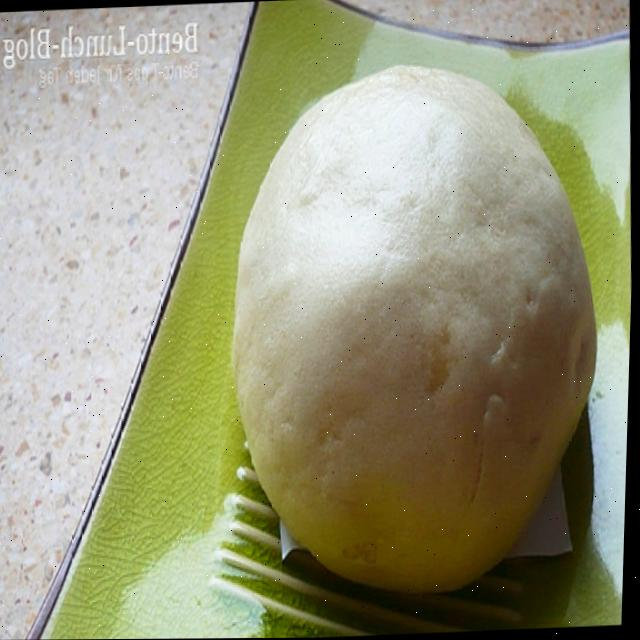带馅早点: (21, 0, 640, 640)
